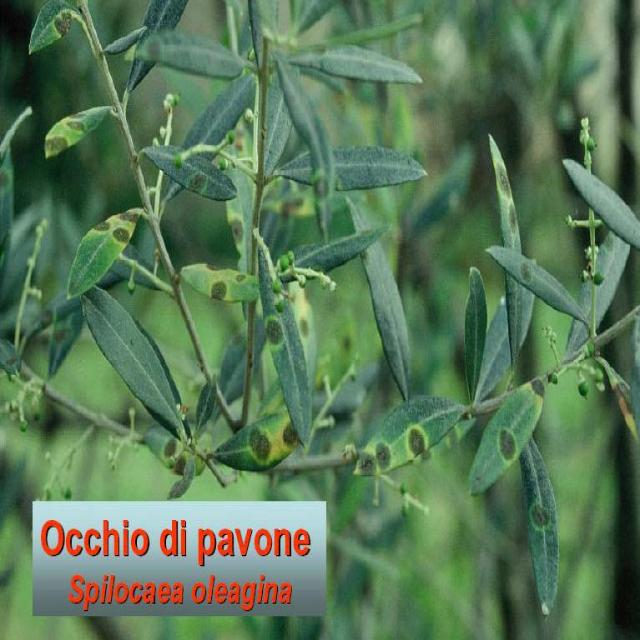Peacock Eye: (254, 229, 312, 445), (354, 396, 466, 479), (470, 376, 547, 494), (67, 208, 144, 299), (521, 444, 559, 616), (486, 248, 578, 315), (141, 144, 236, 201), (214, 409, 300, 471), (44, 105, 115, 159), (182, 262, 259, 301), (28, 0, 77, 55)
